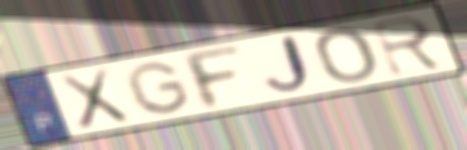F: (175, 44, 247, 112)
G: (122, 59, 195, 116)
J: (259, 31, 318, 97)
O: (312, 26, 381, 84)
R: (368, 14, 450, 79)
X: (54, 65, 134, 133)
